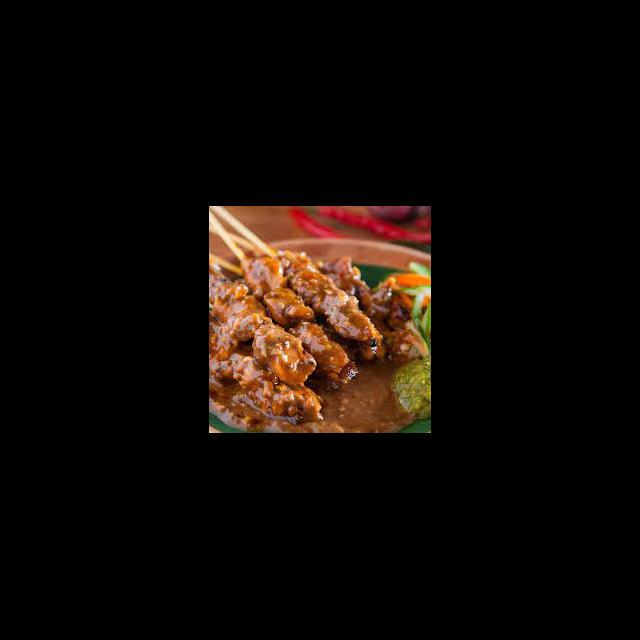food_waste: (233, 284, 369, 397)
